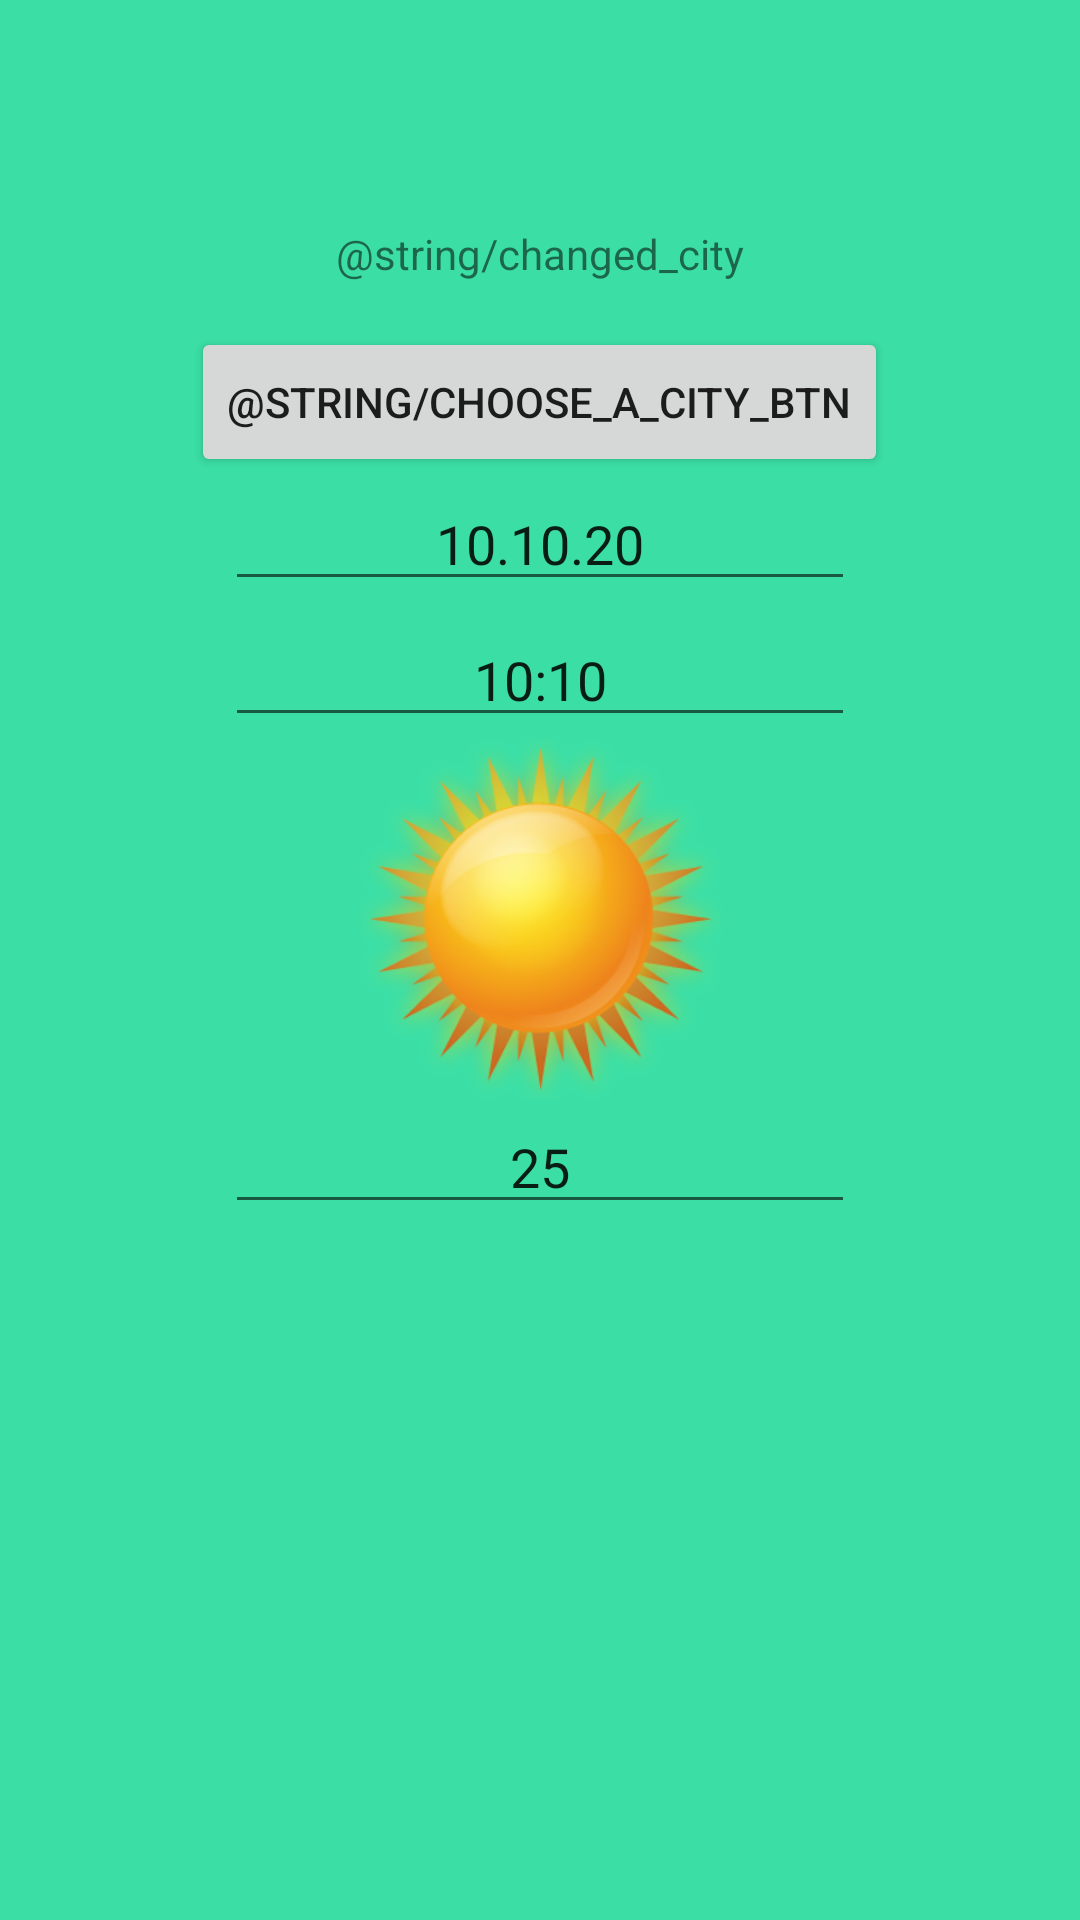

Icons on this 1080w x 1920h Android screen, each with its box as (x1, y1, x2, y2):
sun: (370, 748, 711, 1090)
